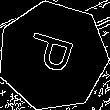P_E: (23, 31, 83, 81)
